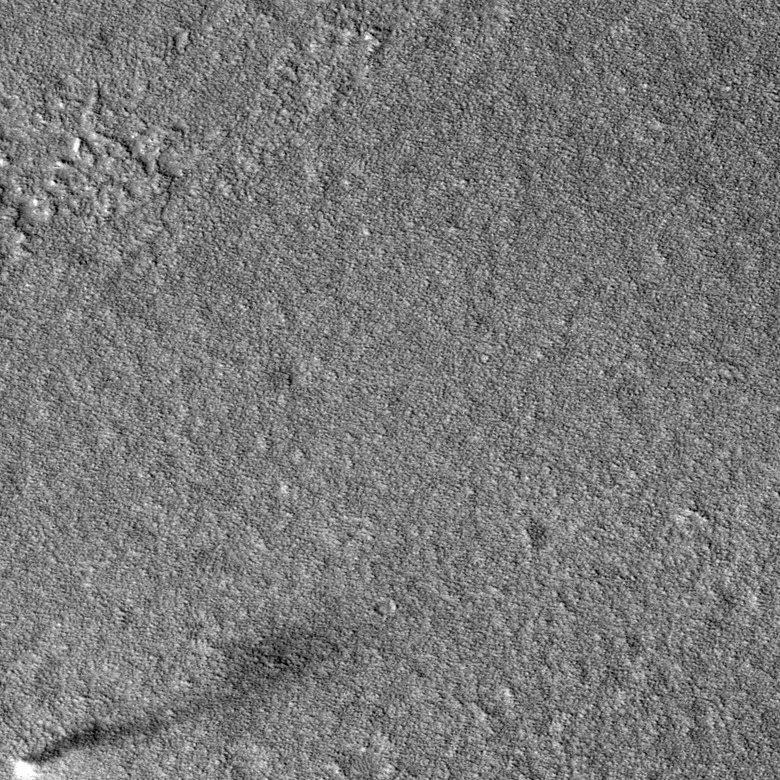dust_devil: (5, 616, 354, 780)
